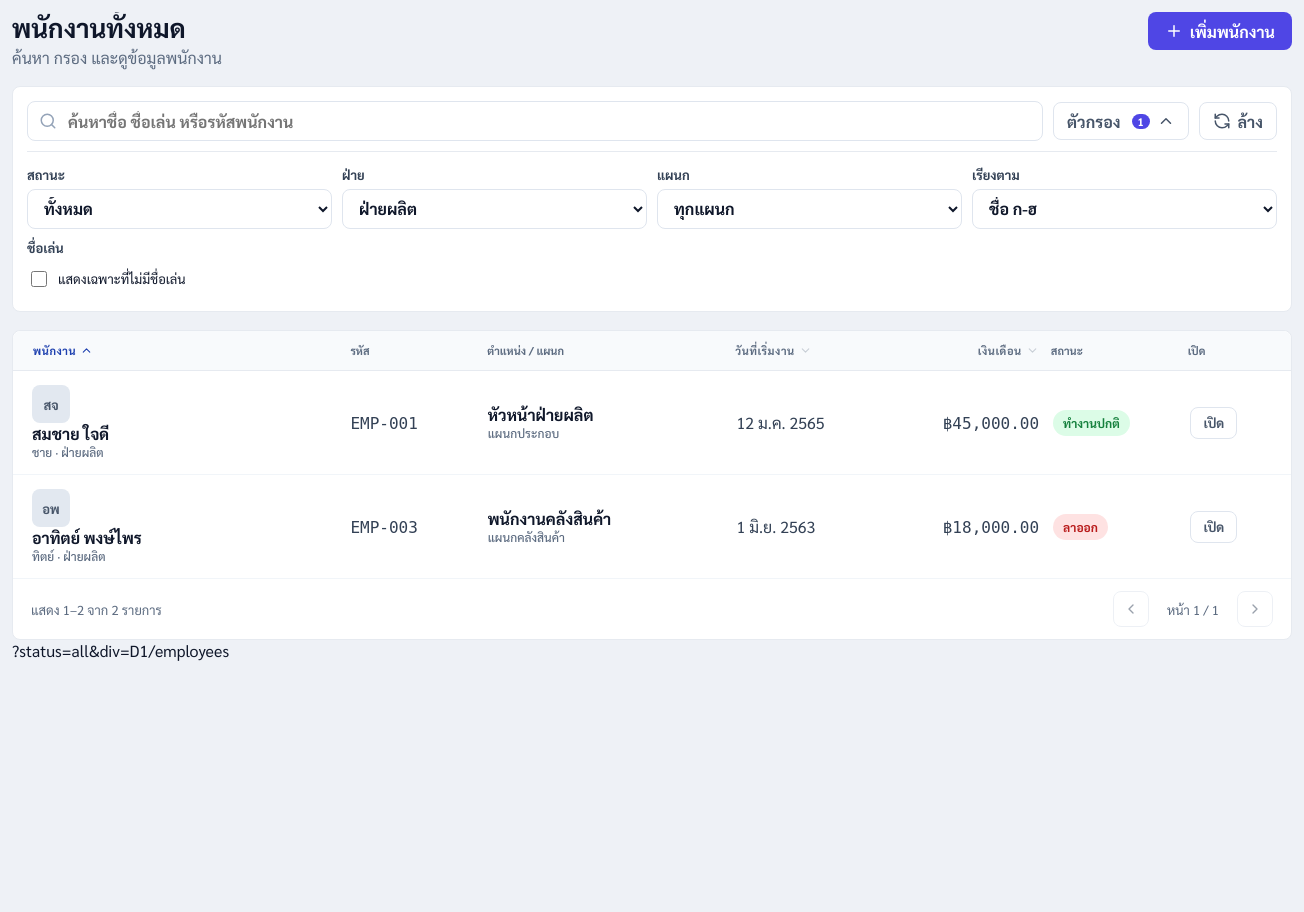
Test: EmployeeListPage division and department params › clears every param via ล้าง and restores the default view
Click the button "ล้าง" at (1238, 121), box [1198,102,1277,140]
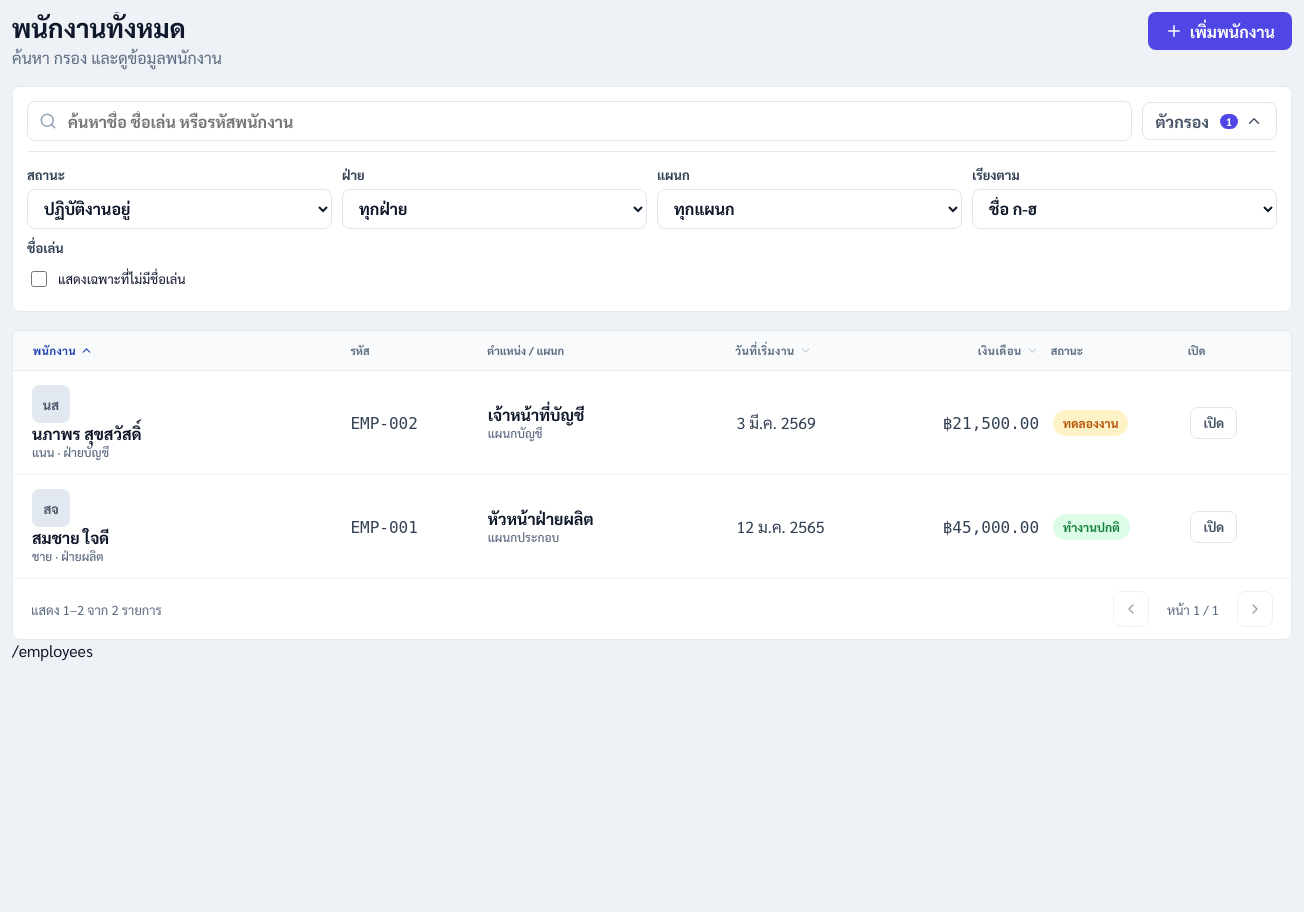
Now the text "อาทิตย์ พงษ์ไพร" is gone
